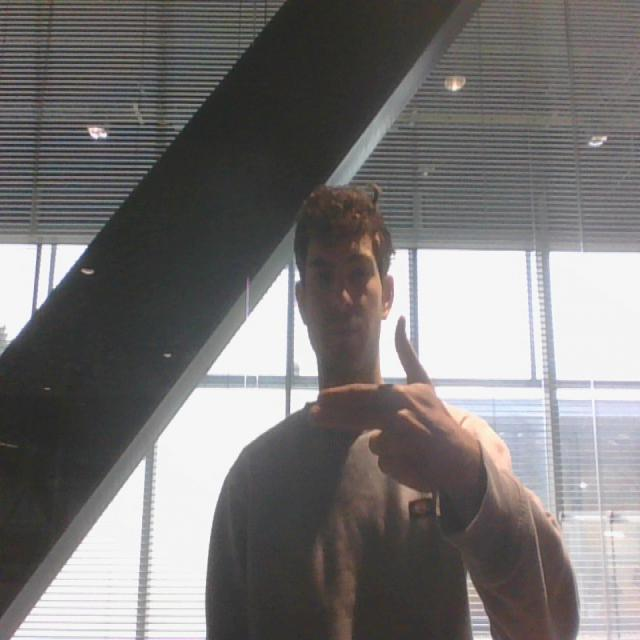left: (305, 314, 478, 498)
